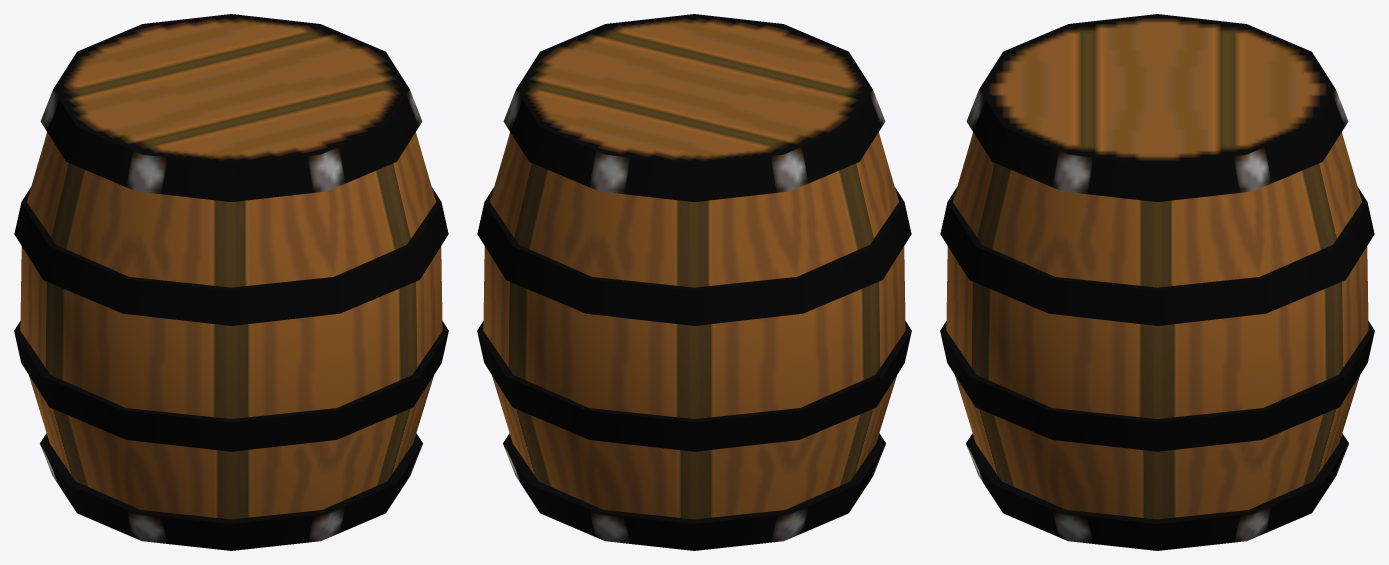
The model's file is Barrel.fbx.
3 renders of one model, left to right at view 1: azimuth 30°, elevation 25°; view 2: azimuth 150°, elevation 25°; view 3: azimuth 270°, elevation 25°, orthographic.
Parts seen in each view (by area): view 1: Barrel; view 2: Barrel; view 3: Barrel.
Boxes of the visible parts, bbox=[...] form: Barrel: bbox=[14, 14, 448, 550]; Barrel: bbox=[477, 14, 911, 550]; Barrel: bbox=[940, 14, 1374, 550].
Bounding box in the file's own units: 4894 × 4800 × 4897.
